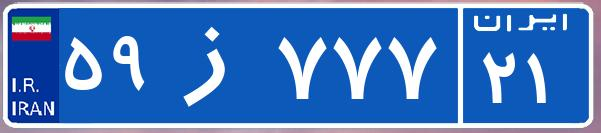1: (525, 38, 570, 115)
2: (475, 38, 525, 113)
5: (57, 26, 110, 107)
7: (385, 28, 445, 110), (273, 28, 330, 110), (330, 28, 385, 110)
9: (110, 28, 158, 105)
ز: (158, 15, 273, 115)
